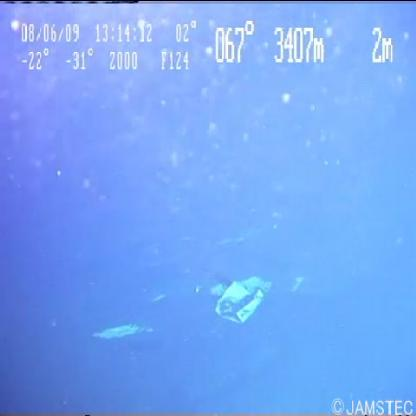Rác: (198, 268, 307, 343)
